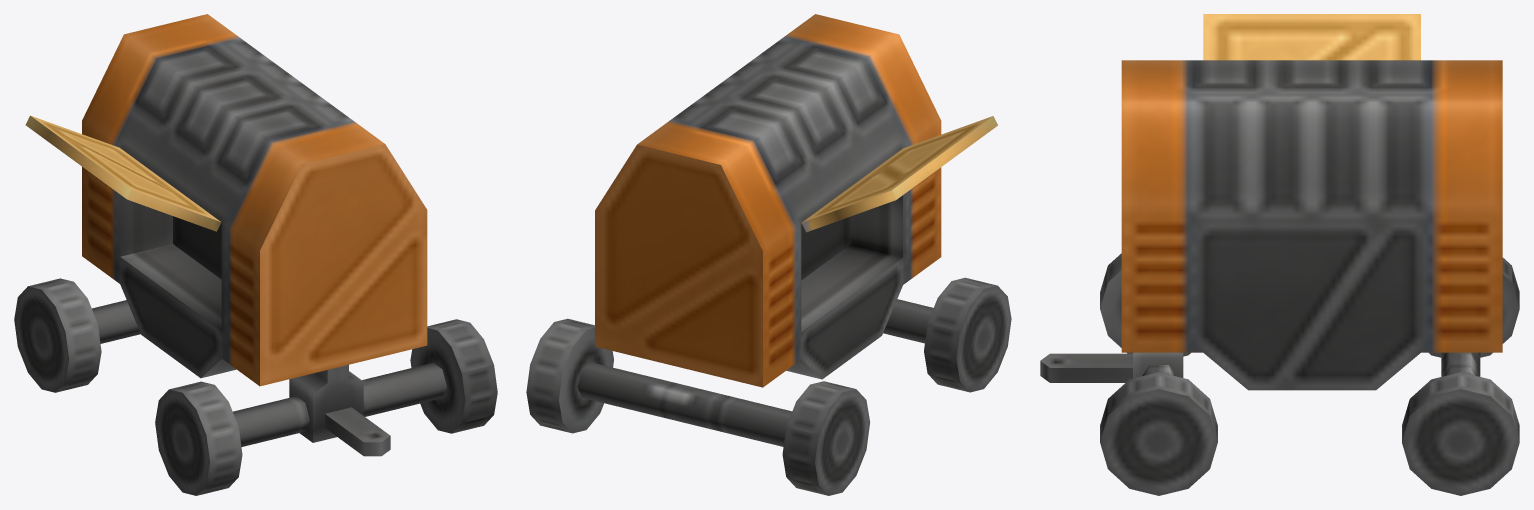
File: Mobile_Generator.FBX
3 views of the same model, side by side, from view 1: azimuth 30°, elevation 25°; view 2: azimuth 150°, elevation 25°; view 3: azimuth 270°, elevation 25° (orthographic). The views are drawn at different scales.
Visible parts, largest first — view 1: Mobile_Generator; view 2: Mobile_Generator; view 3: Mobile_Generator.
Part boxes in pixels (left/top/right/bottom): Mobile_Generator: left=14, top=14, right=497, bottom=495; Mobile_Generator: left=526, top=14, right=1011, bottom=495; Mobile_Generator: left=1040, top=14, right=1519, bottom=495.
Size of the model in its own units: 452 by 424 by 544.
